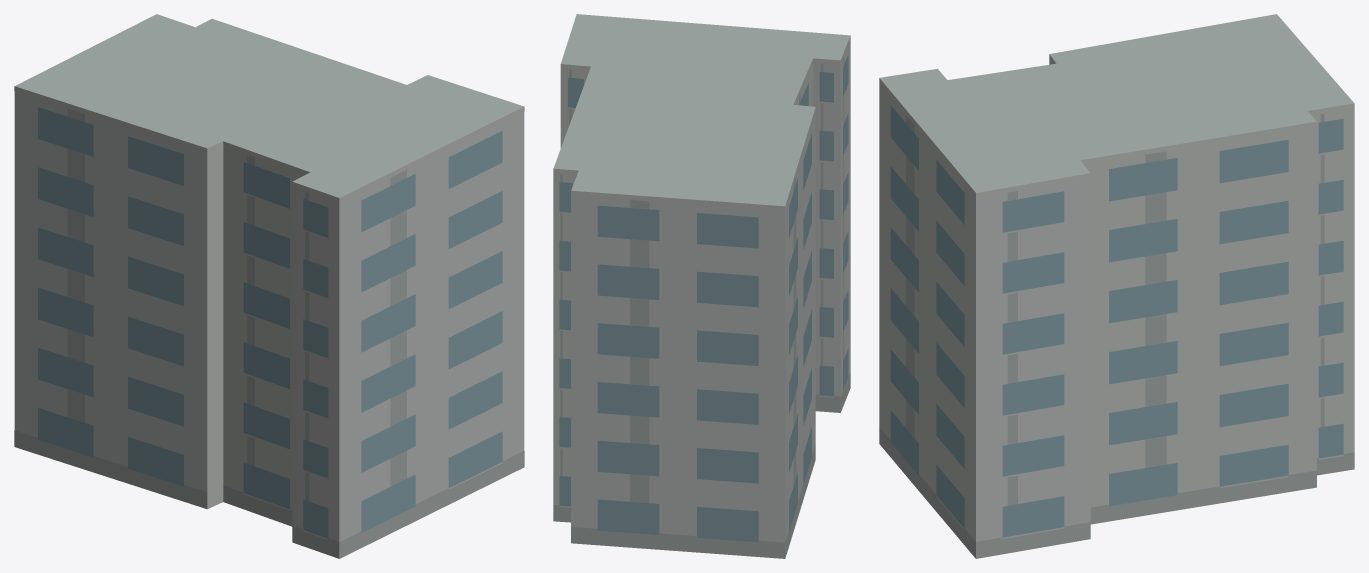
The model's file is survey-upis-32802099.glb.
3 views of the same model, side by side, from view 1: azimuth 30°, elevation 25°; view 2: azimuth 150°, elevation 25°; view 3: azimuth 270°, elevation 25° (orthographic). The views are drawn at different scales.
Visible parts, largest first — view 1: survey-upis-32802099.tmp; view 2: survey-upis-32802099.tmp; view 3: survey-upis-32802099.tmp.
Boxes of the visible parts, x1,y1,x2,y2 form: survey-upis-32802099.tmp: (14,14,524,558); survey-upis-32802099.tmp: (553,14,850,558); survey-upis-32802099.tmp: (879,14,1354,558).
Bounding box in the file's own units: 18.37 × 17.5 × 20.61.
